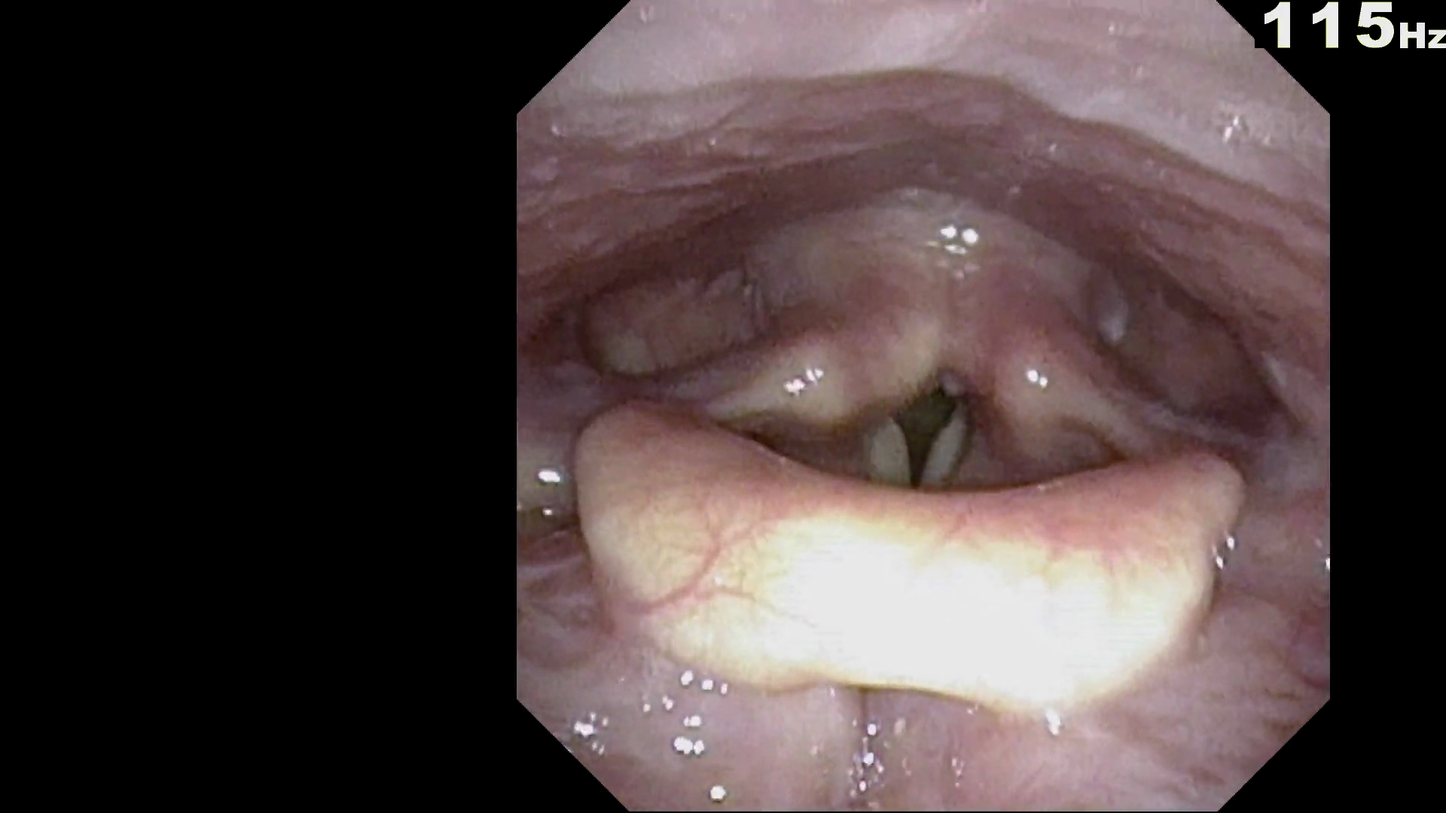epiglottis: (553, 348, 1281, 711)
trachea: (837, 333, 1016, 558)
